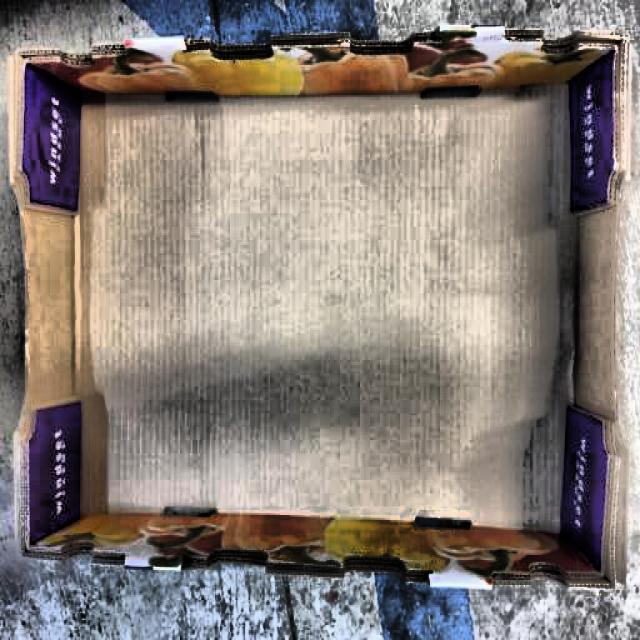cardboard: (16, 38, 632, 592)
